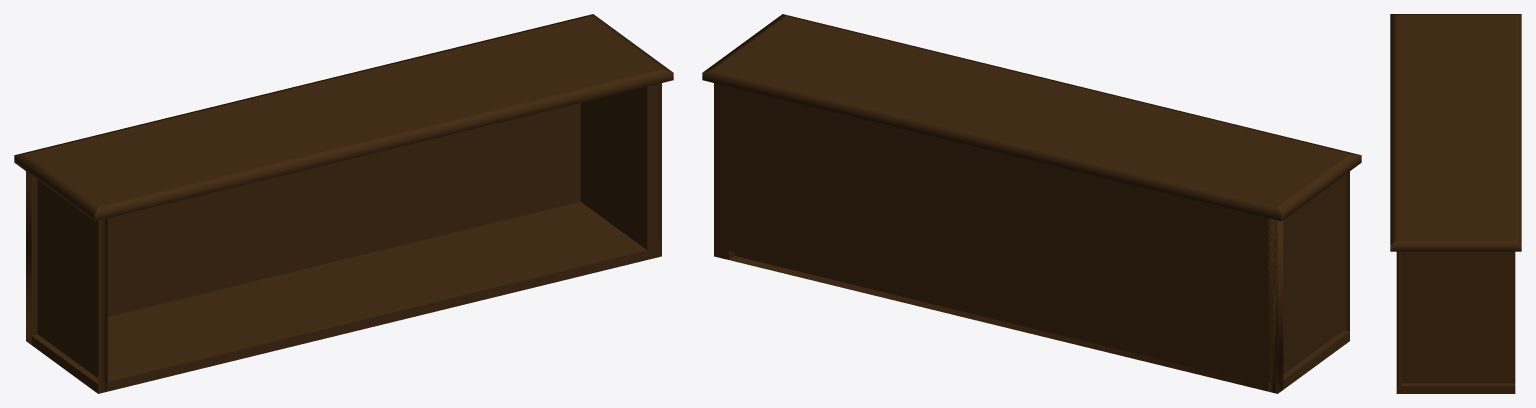
The model's file is cajonera.fbx.
3 views of the same model, side by side, from view 1: azimuth 30°, elevation 25°; view 2: azimuth 150°, elevation 25°; view 3: azimuth 270°, elevation 25° (orthographic). The views are drawn at different scales.
Visible parts, largest first — view 1: Cajonera1; view 2: Cajonera1; view 3: Cajonera1.
Part boxes in pixels (<box>): Cajonera1: <box>14,14,673,393</box>; Cajonera1: <box>702,14,1361,393</box>; Cajonera1: <box>1390,14,1521,393</box>.
Bounding box in the file's own units: 239 × 73.79 × 57.34.
